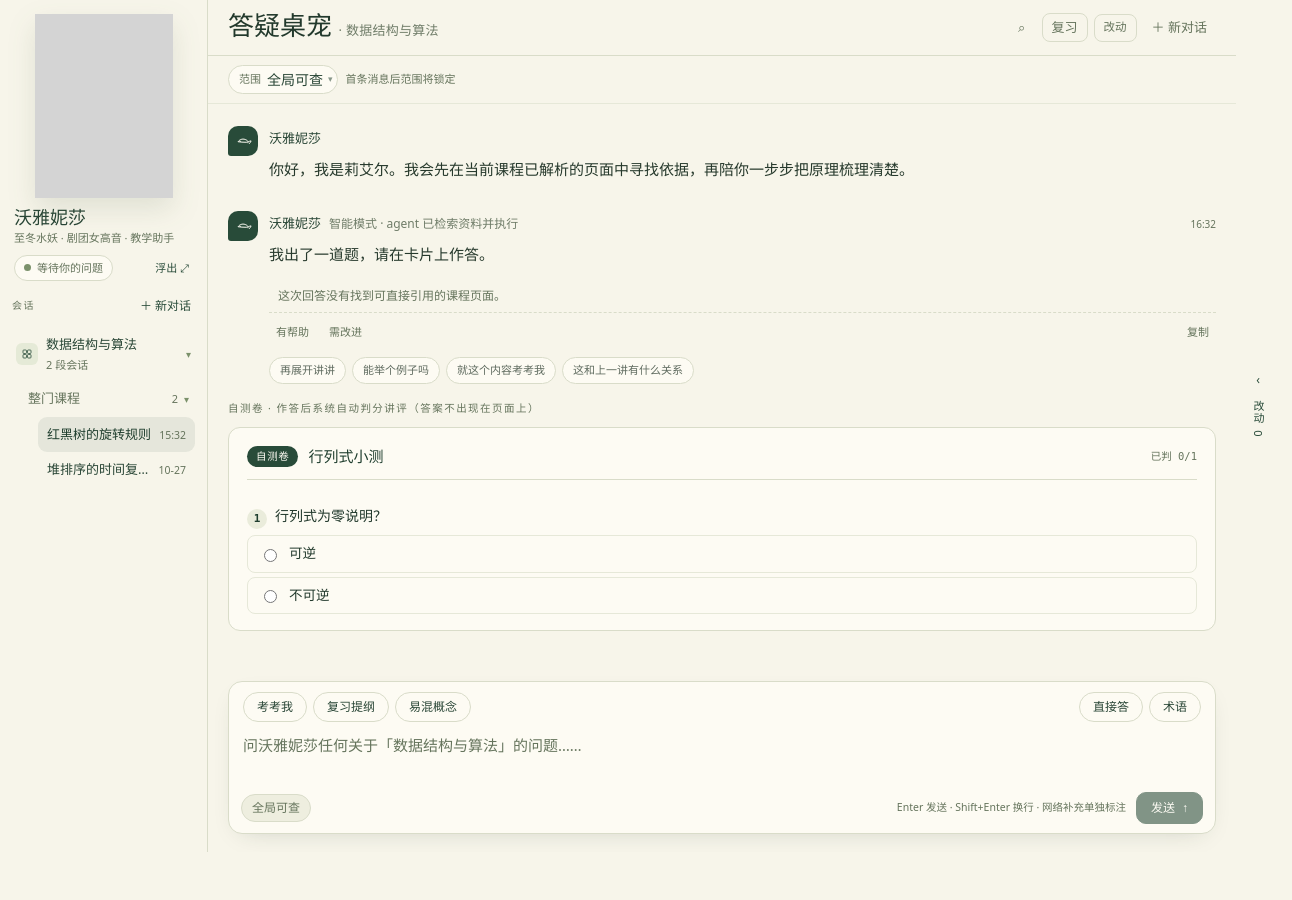
Test: 自测卷：拉题、作答、交卷判分
This screenshot has width=1292, height=900.
Expected: the text "1 行列式为零说明？" is shown, [247,506,387,529]
Click the radio button labelled "不可逆" at {"x": 270, "y": 597}, box [264,590,277,603]
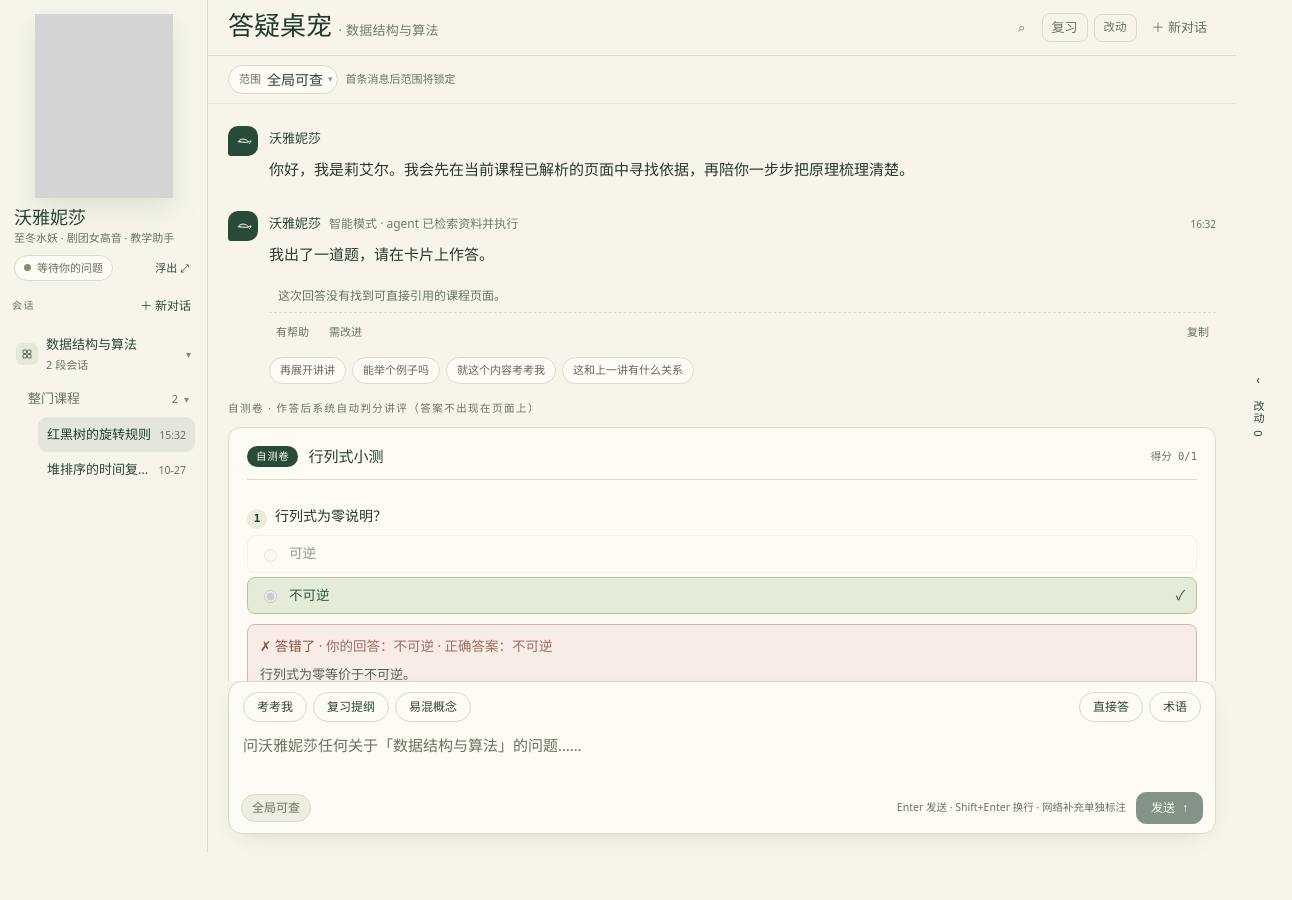
Result: the text "✗ 答错了 · 你的回答：不可逆 · 正确答案：不可逆" is shown at [260,637,553,655]
Result: the text "· 正确答案：不可逆" is shown at [434,637,553,655]
Result: the text "得分 0/1" is shown at [1151,448,1197,465]
